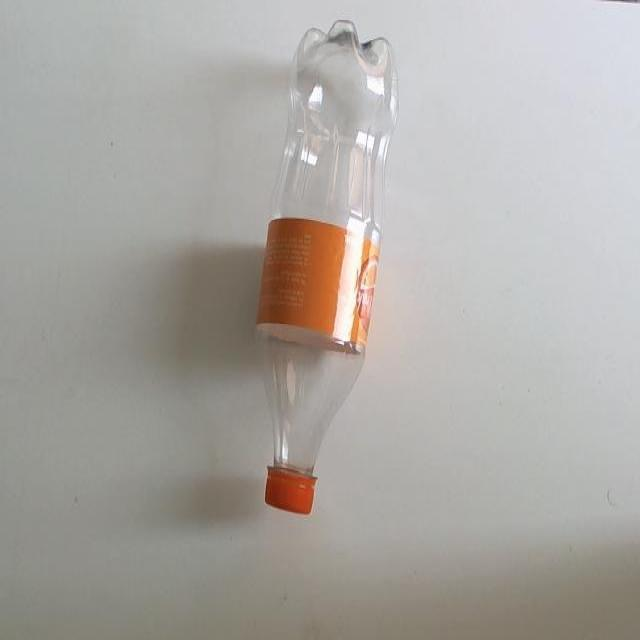non-defect: (252, 16, 401, 517)
